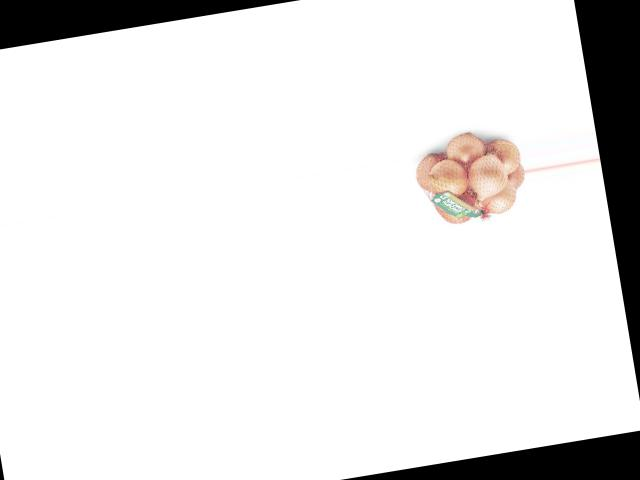onion: (409, 150, 452, 191)
